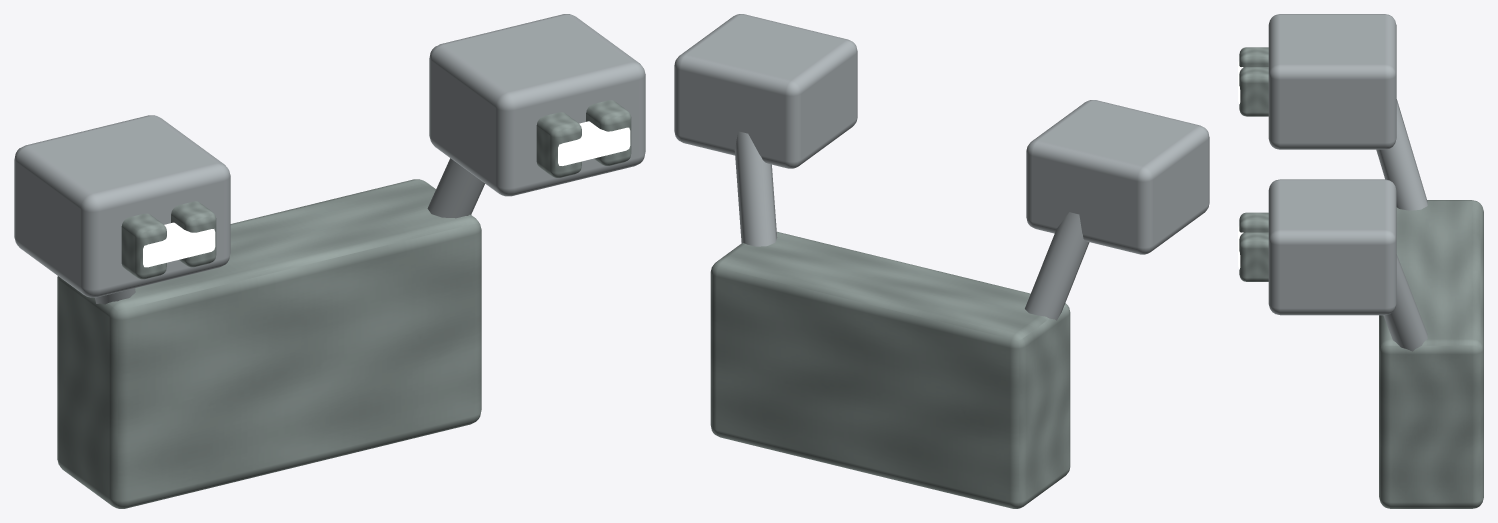
File: liminal-spaces-kit-emergency-light-f18bd409__25329.glb
The picture shows the model from 3 angles, left to right: view 1: azimuth 30°, elevation 25°; view 2: azimuth 150°, elevation 25°; view 3: azimuth 270°, elevation 25°; orthographic projection. The views are drawn at different scales.
Visible parts, largest first — view 1: emergency-light; view 2: emergency-light; view 3: emergency-light.
Boxes of the visible parts, x1,y1,x2,y2 form: emergency-light: (14, 14, 645, 508); emergency-light: (674, 14, 1209, 508); emergency-light: (1238, 14, 1483, 508).
Size of the model in its own units: 0.456 by 0.3 by 0.2112.
Materials: 3 (1 with a texture image).
